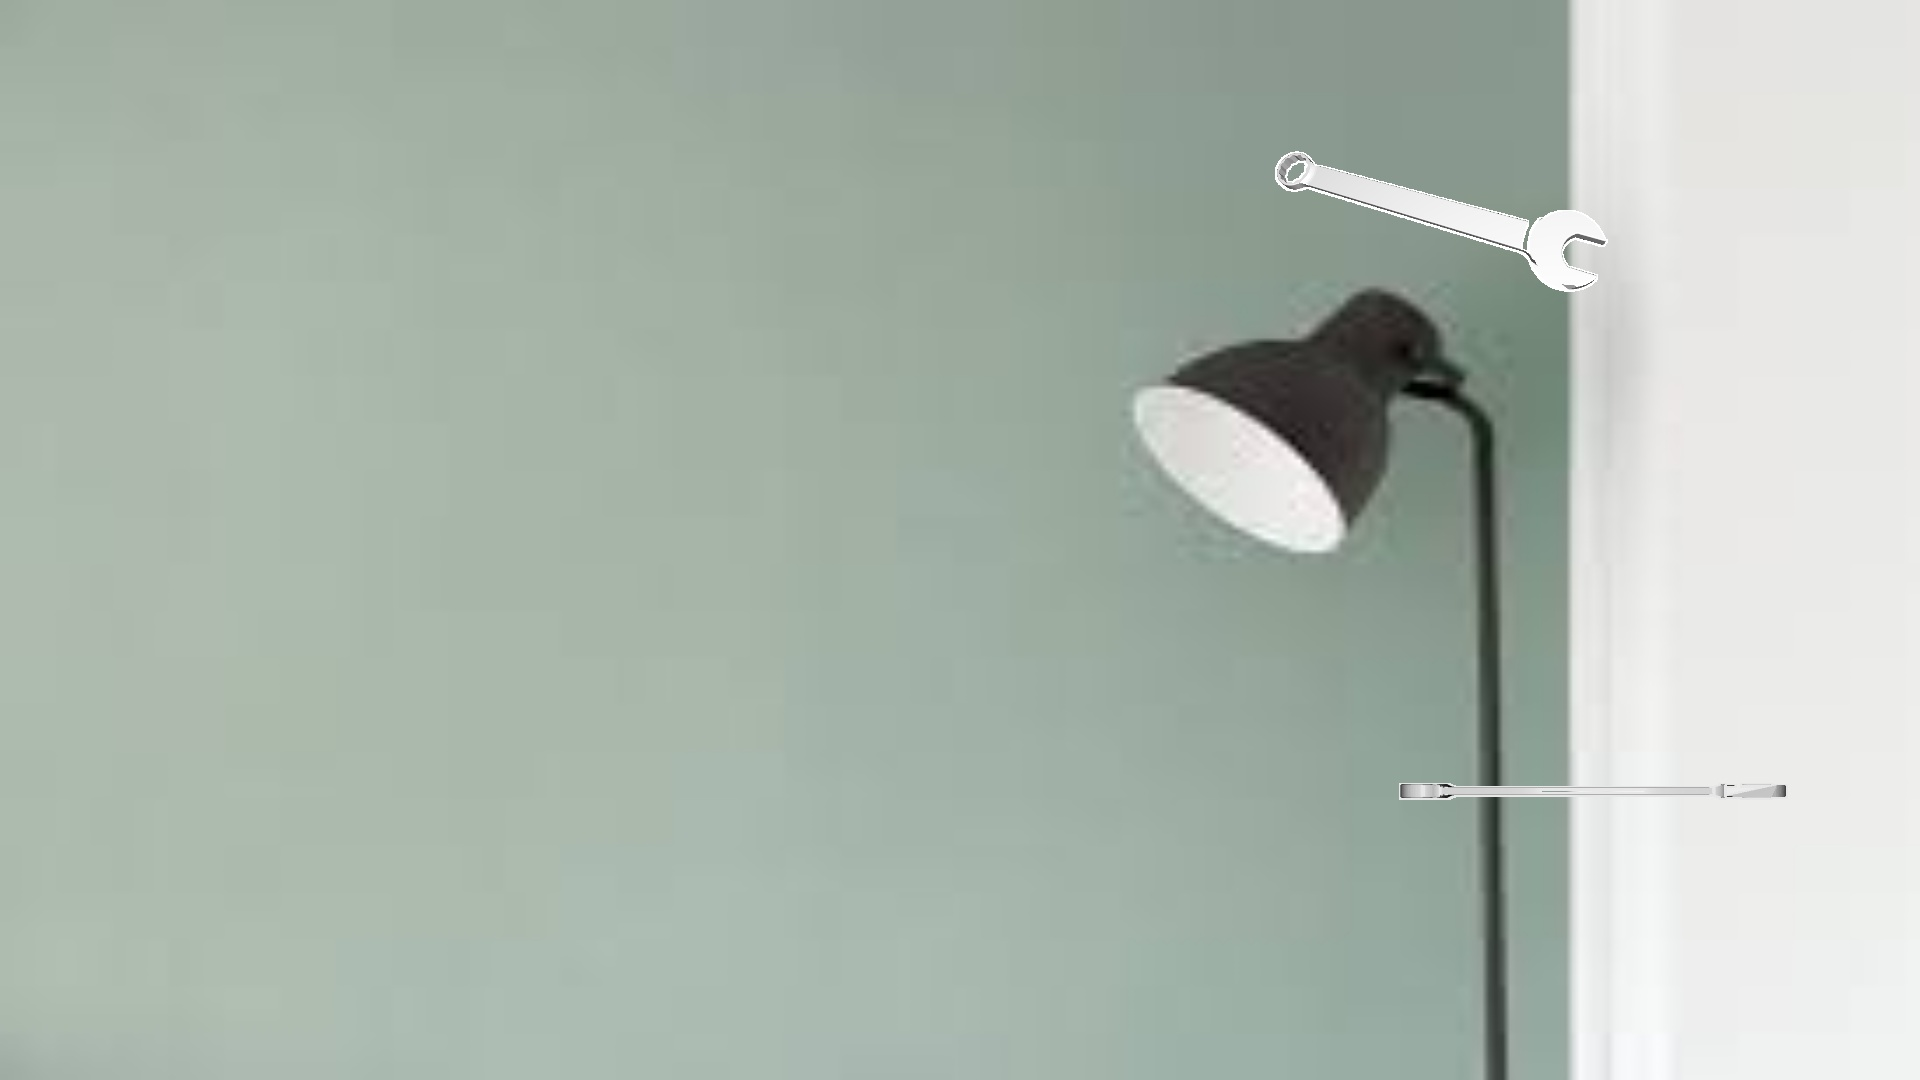Mixed Key: (1275, 152, 1607, 291), (1399, 783, 1787, 799)
